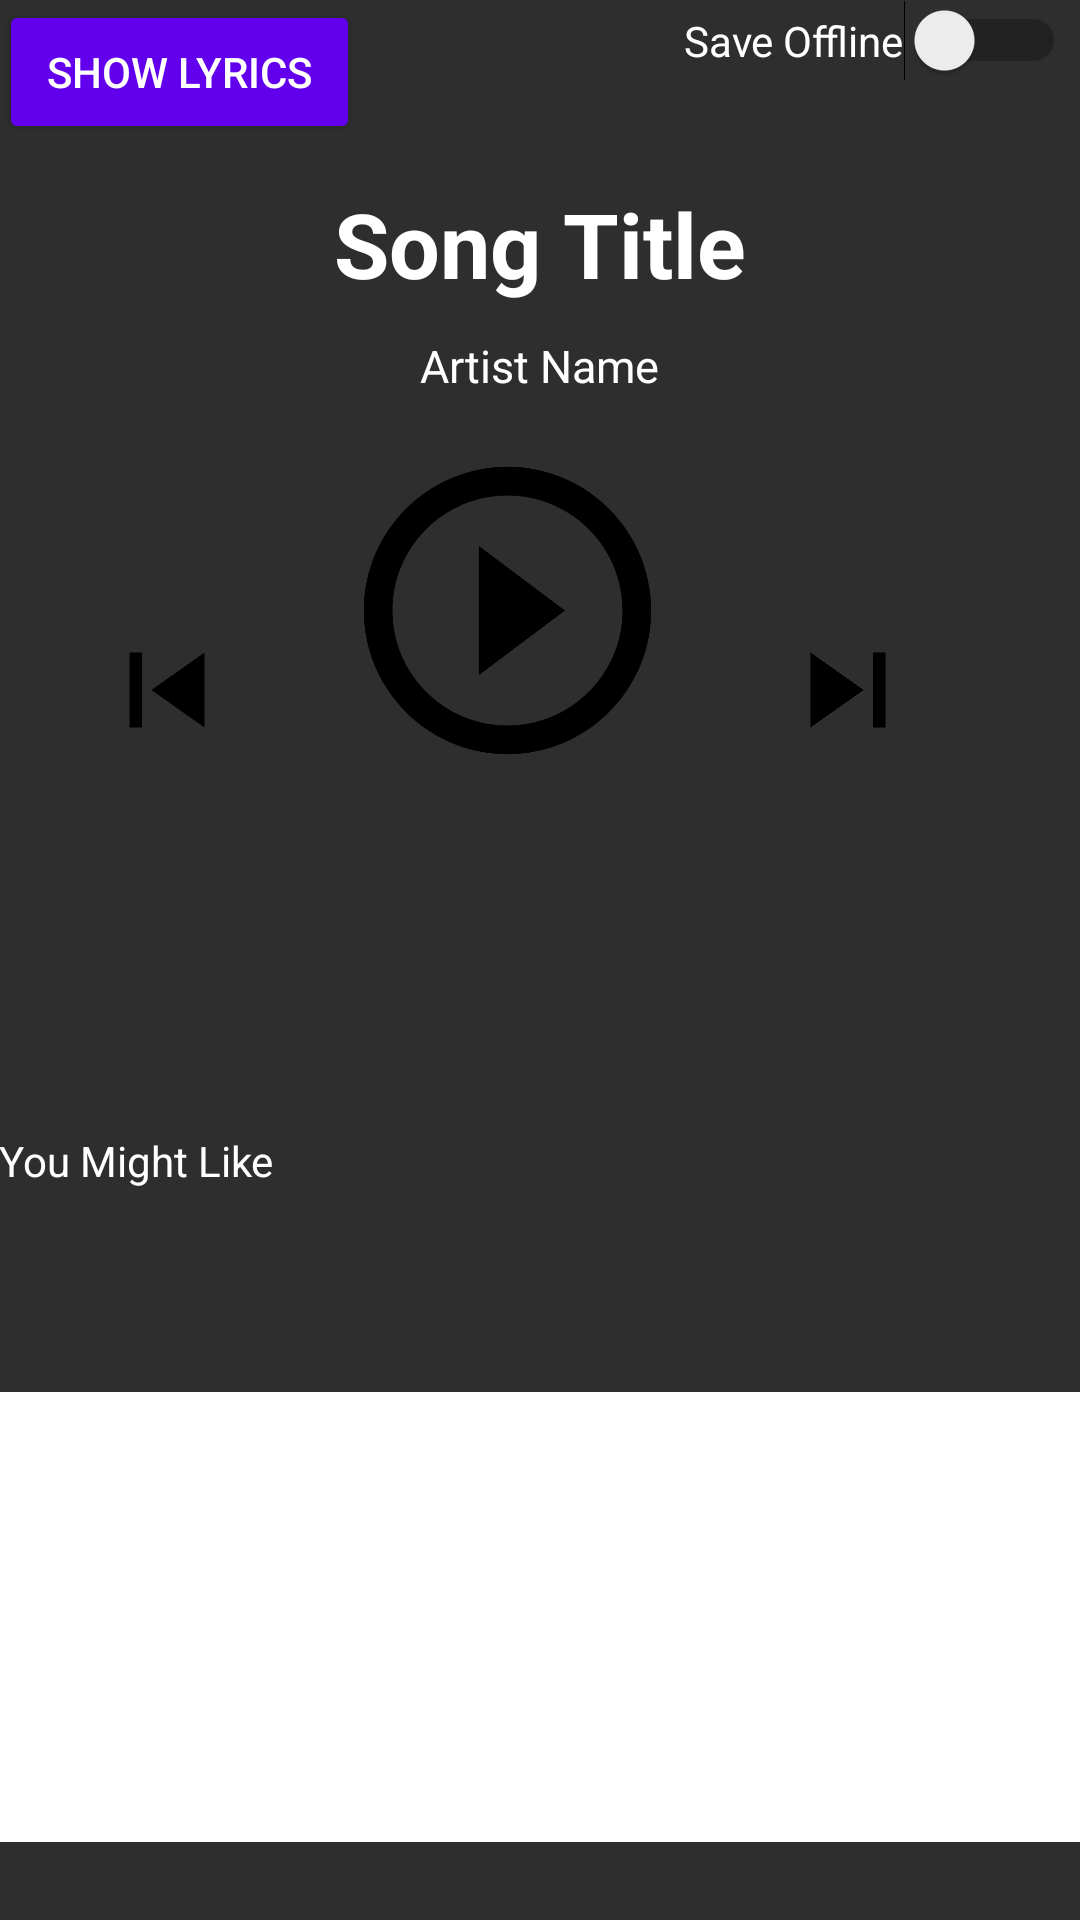

Locate icon controls on the screen. Image size 1080*1920, boxes as region(x1, y1, x2, y2).
play circle: region(364, 467, 651, 754)
skip next: region(810, 652, 886, 728)
skip previous: region(130, 653, 204, 727)
